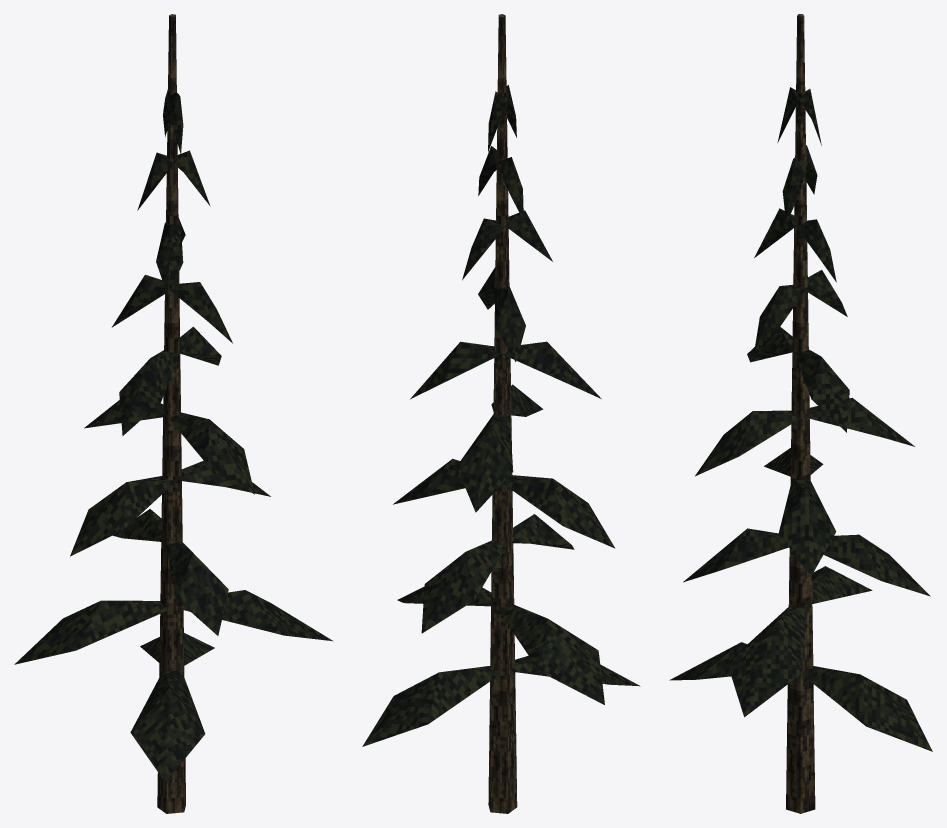
File: ENV_F_Spruce_2.fbx
3 renders of one model, left to right at view 1: azimuth 30°, elevation 25°; view 2: azimuth 150°, elevation 25°; view 3: azimuth 270°, elevation 25°, orthographic.
Visible parts, largest first — view 1: PL_ENV_F_Spruce_2; view 2: PL_ENV_F_Spruce_2; view 3: PL_ENV_F_Spruce_2.
Part boxes in pixels (box(x1,y1,x2,y2)): PL_ENV_F_Spruce_2: box(14, 14, 333, 813); PL_ENV_F_Spruce_2: box(362, 14, 640, 813); PL_ENV_F_Spruce_2: box(669, 14, 932, 813).
Size of the model in its own units: 453 by 1300 by 392.
Materials: 2 (2 with a texture image).
